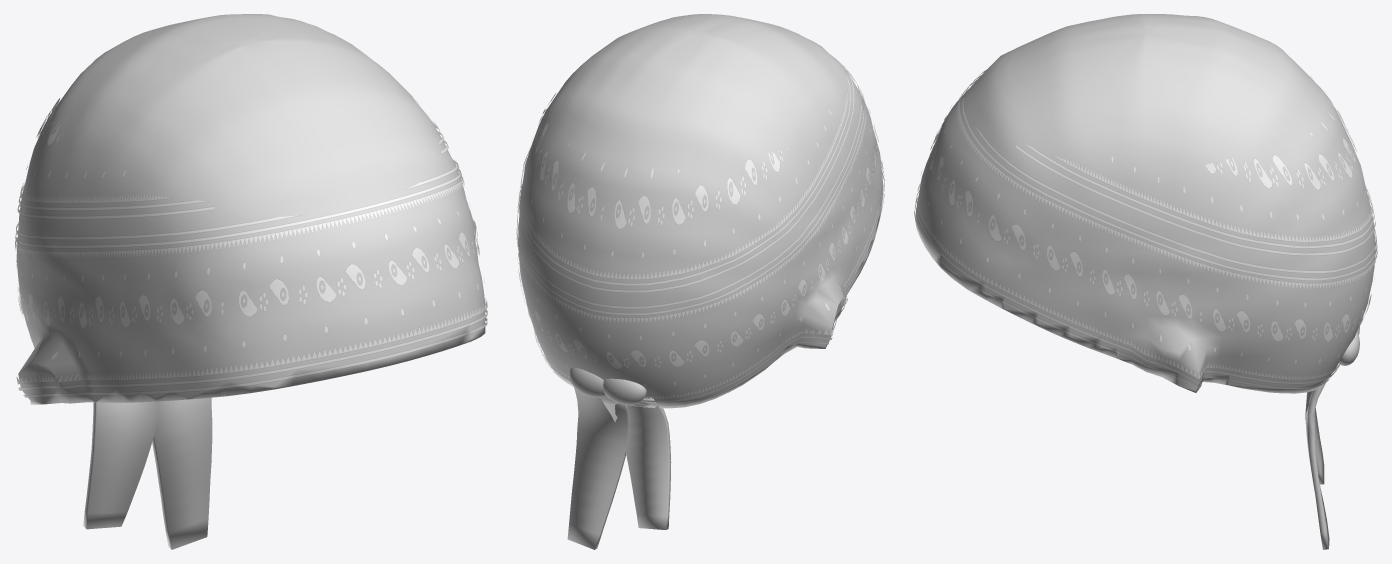
Rendered from acc_bandana_female.glb.
3 renders of one model, left to right at view 1: azimuth 30°, elevation 25°; view 2: azimuth 150°, elevation 25°; view 3: azimuth 270°, elevation 25°, orthographic. The views are drawn at different scales.
Visible parts, largest first — view 1: bandana; view 2: bandana; view 3: bandana.
Boxes of the visible parts, left/top/right/bottom form: bandana: left=15, top=14, right=487, bottom=549; bandana: left=516, top=14, right=884, bottom=549; bandana: left=914, top=14, right=1377, bottom=549.
Bounding box in the file's own units: 0.1836 × 0.2552 × 0.2161.
2 materials, 1 textured.
